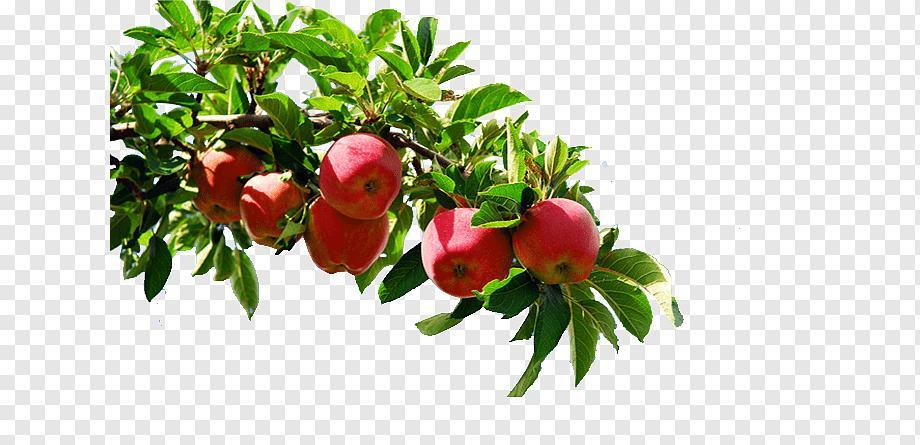apple: (424, 212, 512, 299), (518, 198, 600, 285), (320, 135, 402, 220), (192, 142, 266, 225), (307, 198, 385, 273), (240, 173, 308, 249)
